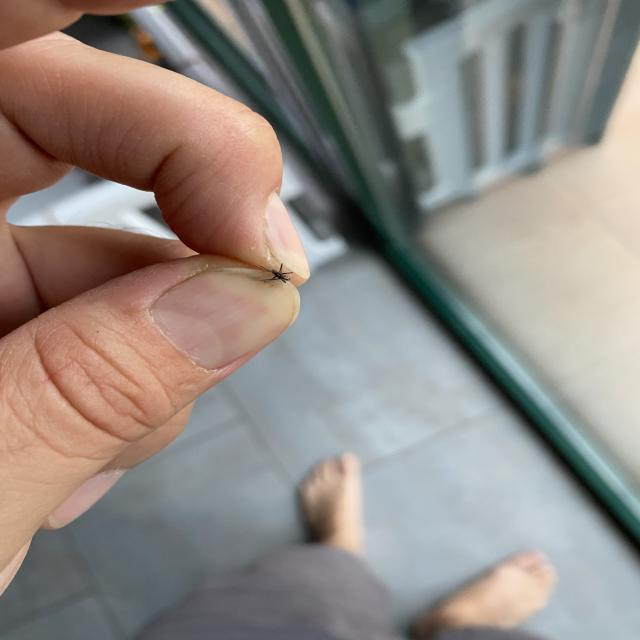albopictus: (254, 257, 298, 284)
